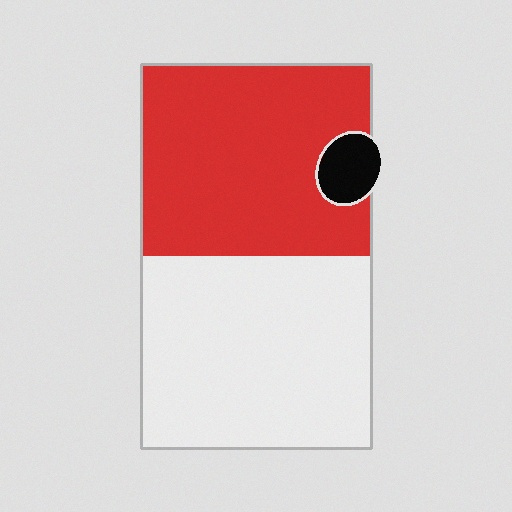hole: (309, 128, 389, 208)
